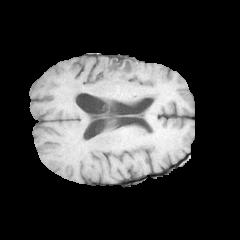glioma: (64, 58, 160, 119)
